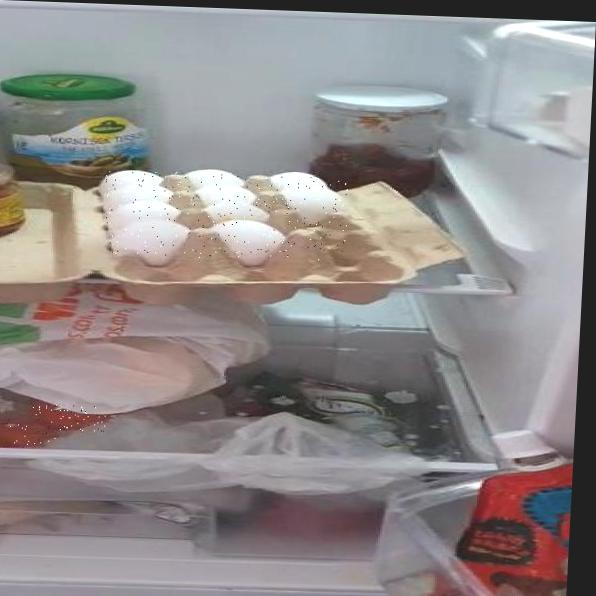eggs: (102, 168, 350, 263)
tomato: (31, 404, 106, 432), (0, 416, 59, 449)
